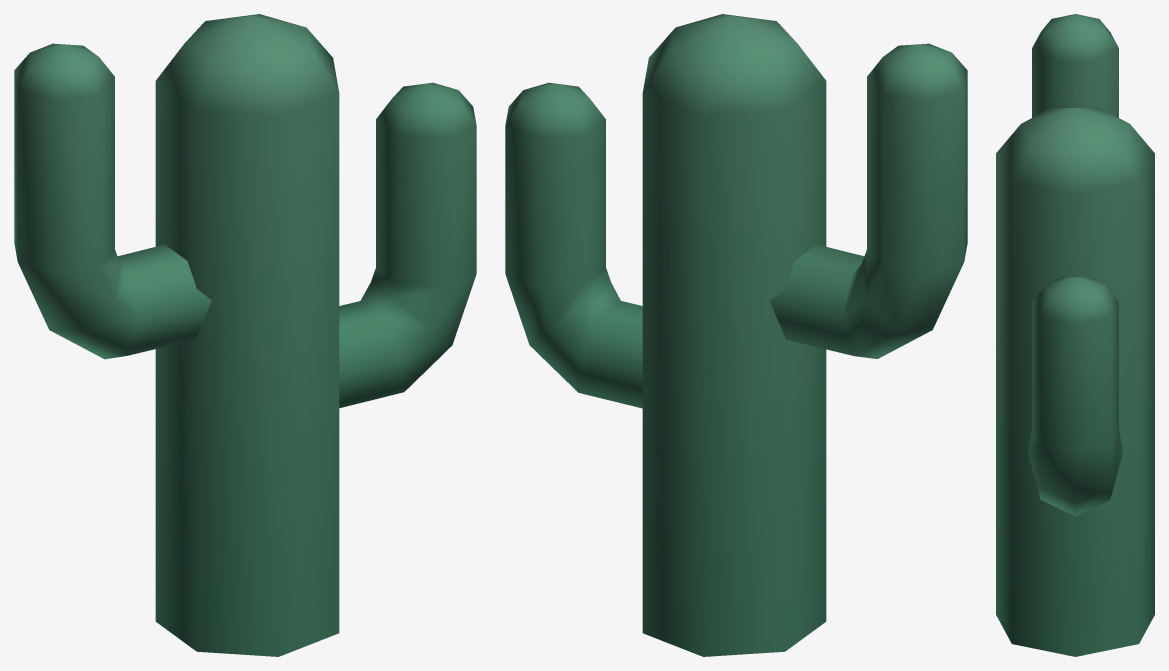
The model's file is tree_1.fbx.
3 views of the same model, side by side, from view 1: azimuth 30°, elevation 25°; view 2: azimuth 150°, elevation 25°; view 3: azimuth 270°, elevation 25° (orthographic). The views are drawn at different scales.
Parts seen in each view (by area): view 1: tree_1; view 2: tree_1; view 3: tree_1.
Boxes of the visible parts, box(x1,y1,x2,y2) form: tree_1: box(14, 14, 476, 656); tree_1: box(505, 14, 967, 656); tree_1: box(996, 14, 1154, 656).
Size of the model in its own units: 261 by 340 by 92.32.
